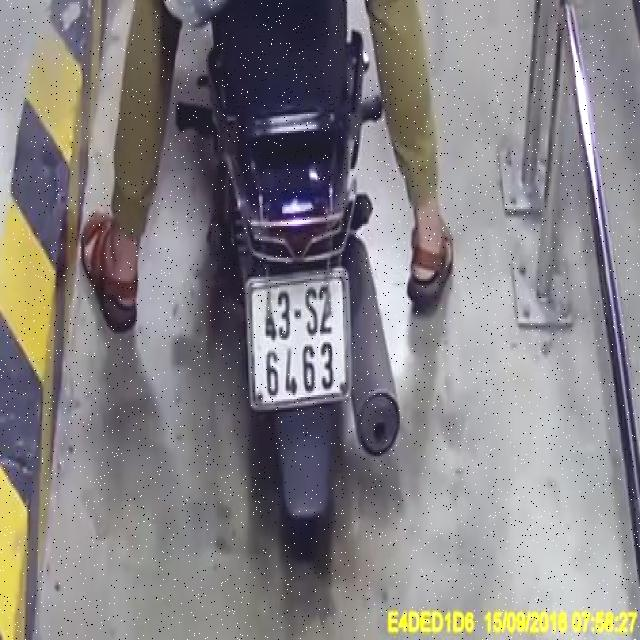2: (318, 284, 333, 336)
3: (276, 290, 292, 343), (320, 340, 335, 392)
4: (264, 288, 278, 344), (284, 347, 298, 399)
6: (264, 348, 280, 399), (301, 344, 317, 394)
S: (304, 285, 318, 336)
